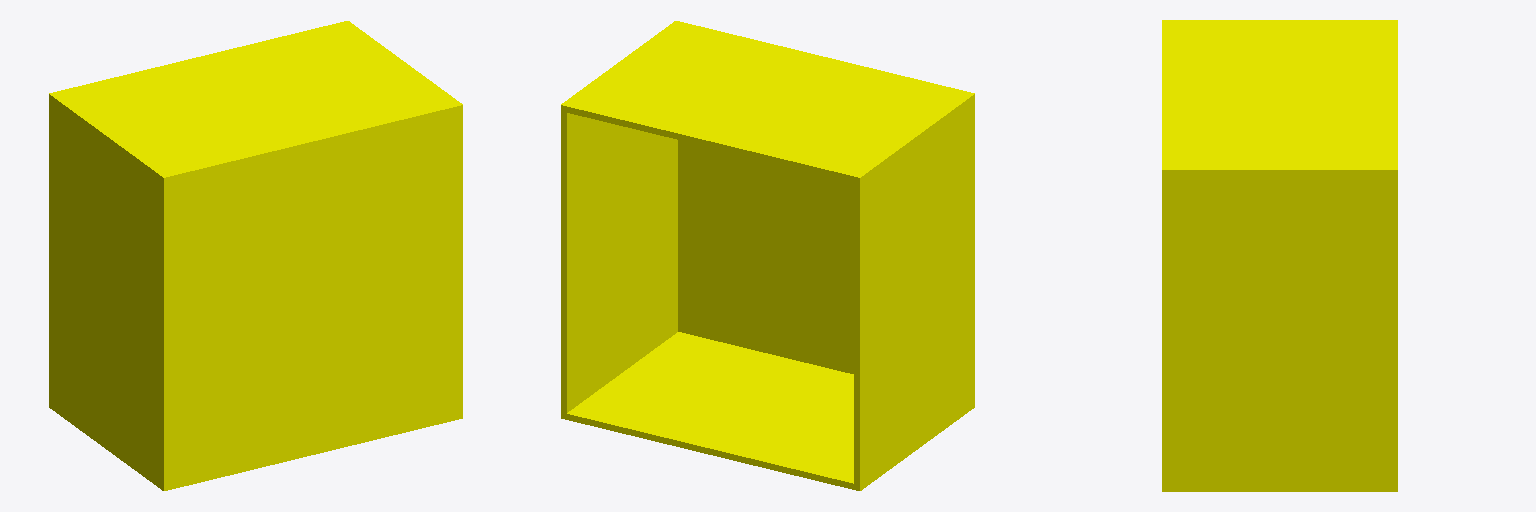
robot.urdf — tank2:
<?xml version="1.0" encoding="utf-8"?>
<!-- This URDF was automatically created by SolidWorks to URDF Exporter! Originally created by [author] ([email redacted]) 
     Commit Version: 1.6.0-4-g7f85cfe  Build Version: 1.6.7995.38578
     For more information, please see http://wiki.ros.org/sw_urdf_exporter -->
<robot
  name="tank2">
  <link
    name="tank2">
    <inertial>
      <origin
        xyz="-1.95244133050806E-17 1.41995733127859E-17 0.0373554616777308"
        rpy="0 0 0" />
      <mass
        value="0.238607999999999" />
      <inertia
        ixx="0.000998290363162338"
        ixy="-5.34242208679008E-19"
        ixz="1.09187840857E-19"
        iyy="0.000998290363162339"
        iyz="-1.29616434401474E-19"
        izz="0.00148612924799999" />
    </inertial>
    <visual>
      <origin
        xyz="0 0 0"
        rpy="-1.57079 0 0" />
      <geometry>
        <mesh
          filename="meshes/tank2.STL" scale="2 2 2"/>
      </geometry>
      <material
        name="tank2">
        <color
          rgba="1 1 0 1" />
      </material>
    </visual>
    <collision>
      <origin
        xyz="0 0 0"
        rpy="0 0 0" />
      <geometry>
        <mesh
          filename="meshes/tank2.STL" scale="2 2 2"/>
      </geometry>
    </collision>
  </link>
</robot>

--- Render facts (derived) ---
The picture shows the robot from 3 angles, left to right: view 1: azimuth 30°, elevation 25°; view 2: azimuth 150°, elevation 25°; view 3: azimuth 270°, elevation 25°; orthographic projection.
Model tank2 with 1 links and 0 joints (none), rooted at tank2, posed every joint at zero.
Visible links, largest first — view 1: tank2; view 2: tank2; view 3: tank2.
Boxes of the visible links, x1,y1,x2,y2 form: tank2: (49, 21, 462, 490); tank2: (561, 21, 974, 490); tank2: (1162, 20, 1397, 491).
Size in the robot's own frame: 0.3 by 0.2 by 0.3 metres.
Meshes: 1 distinct files referenced, 1 mesh visuals loaded (1 binary STL).